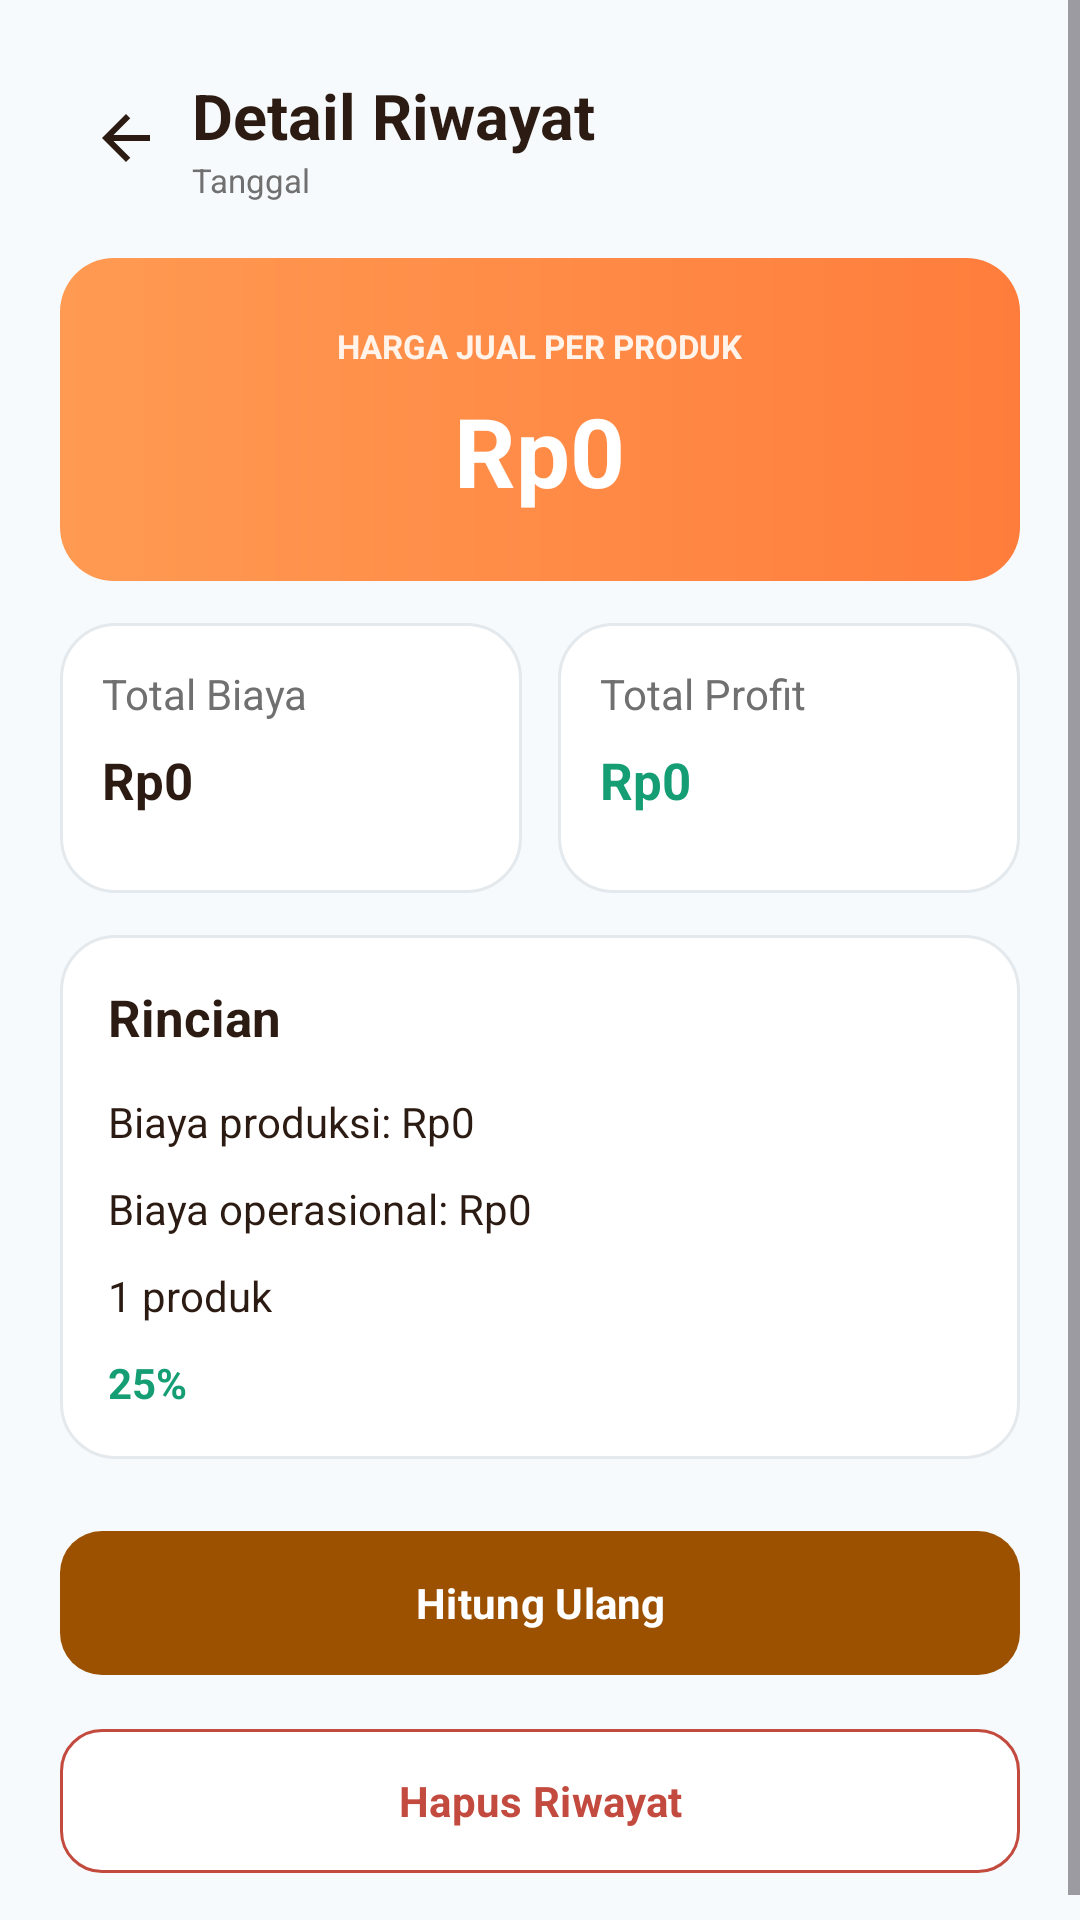

Screen size 1080*1920. Icon name, then its center in pixels as [x,y]:
back: [126,138]
